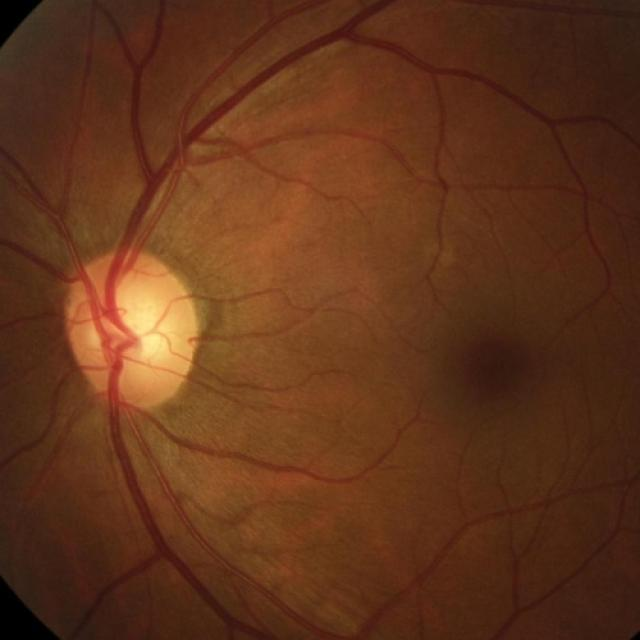OC: (92, 300, 169, 359)
OD: (64, 252, 201, 410)
